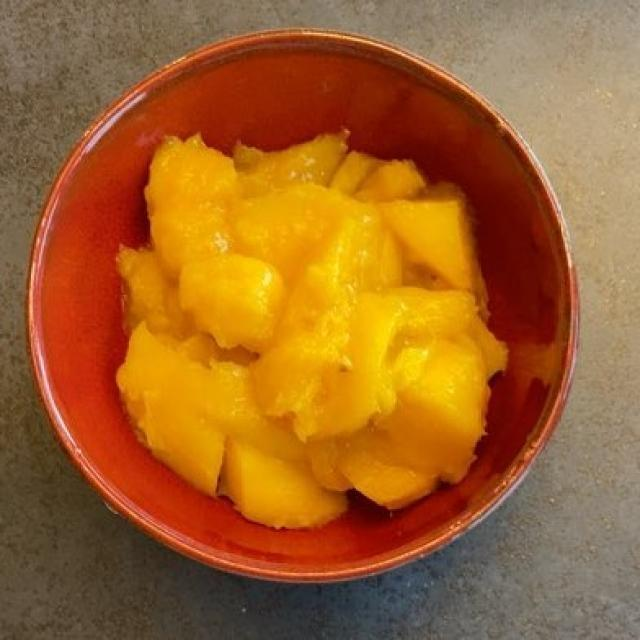mango: (123, 140, 494, 530)
